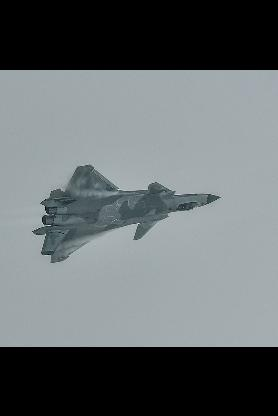F4: (32, 164, 221, 262)
